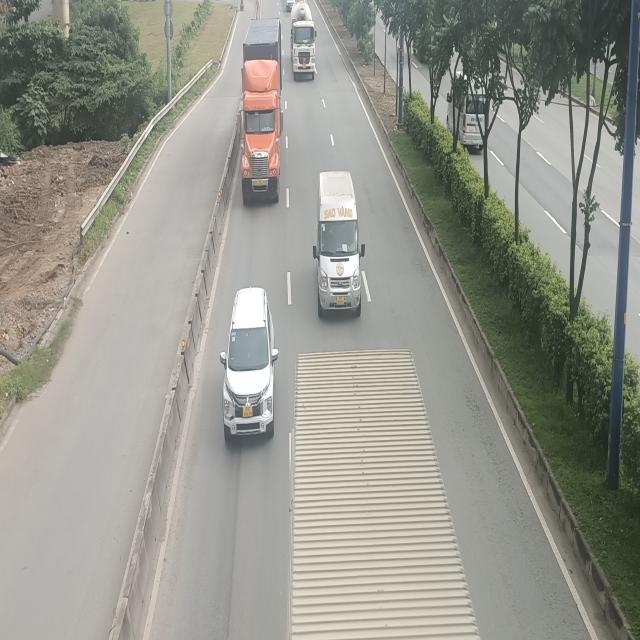car: (220, 284, 278, 442)
container: (290, 354, 480, 640), (237, 18, 283, 204), (291, 1, 317, 78)
van: (313, 170, 364, 311)
